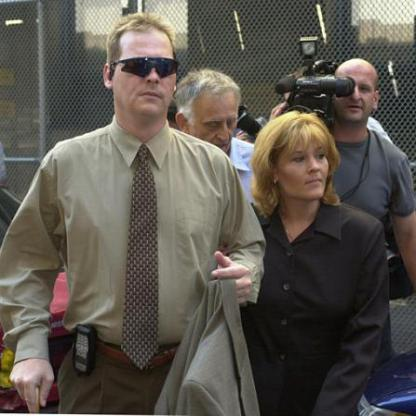face: (114, 20, 184, 120), (276, 116, 336, 203), (189, 77, 242, 161), (335, 60, 378, 124)
